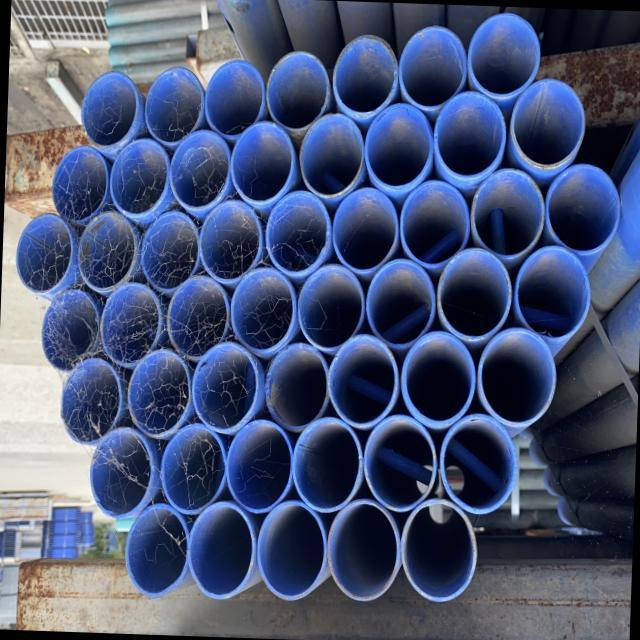pipe: (437, 410, 519, 516), (398, 498, 479, 604), (476, 325, 558, 429), (397, 328, 477, 430), (324, 496, 400, 603), (512, 242, 592, 343), (360, 411, 438, 514), (433, 246, 512, 344), (542, 160, 622, 254), (255, 498, 327, 602), (468, 165, 545, 262), (289, 415, 364, 514), (508, 76, 586, 171), (185, 499, 256, 602), (325, 331, 399, 429), (360, 100, 436, 194), (432, 89, 508, 182), (363, 256, 437, 350), (465, 11, 543, 100), (223, 418, 294, 514), (398, 178, 472, 270), (158, 420, 228, 516), (190, 339, 260, 435), (124, 500, 190, 600), (396, 22, 469, 112), (87, 424, 155, 520), (262, 340, 332, 432), (125, 346, 193, 440), (295, 262, 365, 353), (228, 266, 298, 356), (330, 185, 400, 275), (58, 353, 124, 446), (264, 188, 332, 278), (196, 196, 264, 286), (330, 32, 399, 120), (298, 111, 366, 200), (228, 117, 296, 206), (165, 272, 230, 360), (98, 280, 163, 367), (138, 207, 202, 295), (264, 48, 330, 132), (40, 286, 102, 374), (76, 210, 140, 294), (168, 128, 232, 212), (108, 136, 170, 220), (203, 58, 266, 140), (14, 212, 74, 296), (143, 66, 204, 148), (50, 143, 110, 225), (79, 69, 139, 151)
